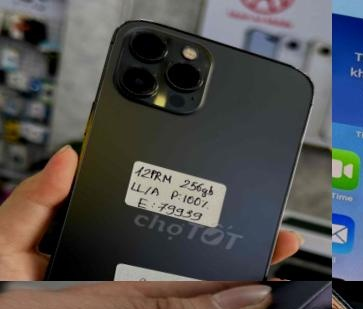scratch: (265, 282, 327, 309)
